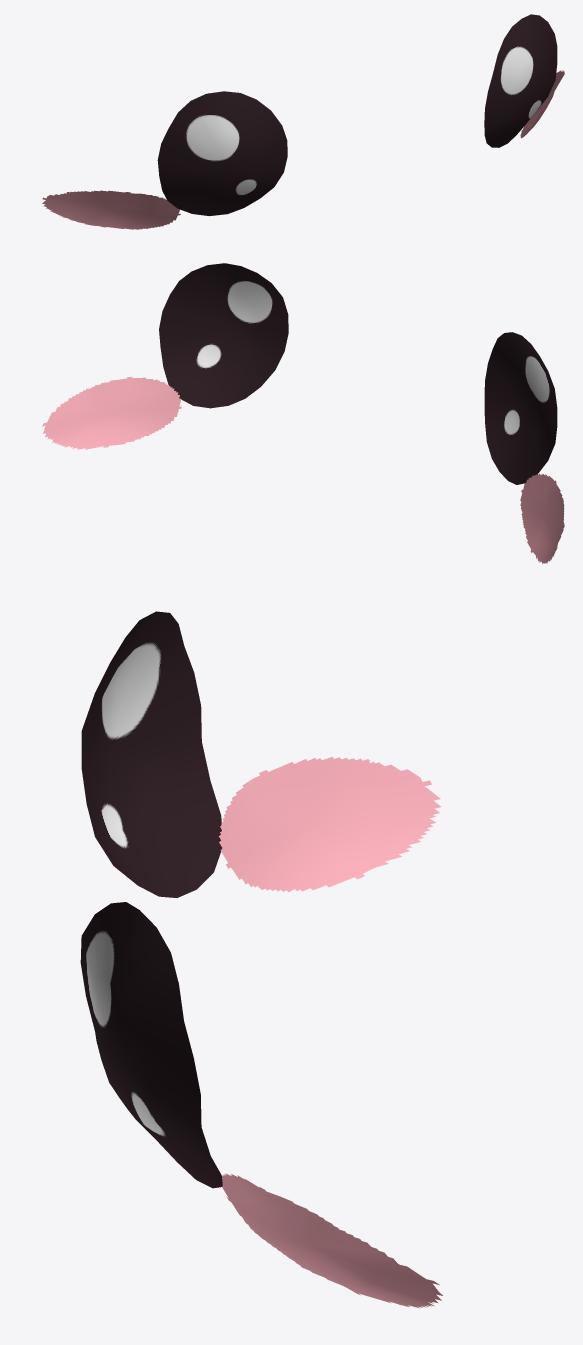
File: bunny-eye-conform.fbx
3 renders of one model, top to bottom at view 1: azimuth 30°, elevation 25°; view 2: azimuth 150°, elevation 25°; view 3: azimuth 270°, elevation 25°, orthographic. The views are drawn at different scales.
Parts seen in each view (by area): view 1: Bunny__EyeL, Bunny__EyeR, Bunny__BlushL, Bunny__BlushR; view 2: Bunny__EyeR, Bunny__EyeL, Bunny__BlushR, Bunny__BlushL; view 3: Bunny__EyeL, Bunny__BlushL, Bunny__EyeR, Bunny__BlushR.
Boxes of the visible parts, bbox=[...] form: Bunny__EyeL: bbox=[157, 91, 287, 216]; Bunny__EyeR: bbox=[484, 14, 557, 147]; Bunny__BlushL: bbox=[42, 190, 180, 229]; Bunny__BlushR: bbox=[520, 70, 564, 138]; Bunny__EyeR: bbox=[159, 263, 288, 408]; Bunny__EyeL: bbox=[484, 332, 557, 484]; Bunny__BlushR: bbox=[42, 376, 181, 449]; Bunny__BlushL: bbox=[520, 473, 564, 563]; Bunny__EyeL: bbox=[81, 611, 222, 897]; Bunny__BlushL: bbox=[219, 757, 441, 892]; Bunny__EyeR: bbox=[80, 902, 222, 1188]; Bunny__BlushR: bbox=[222, 1173, 442, 1308].
Size of the model in its own units: 84.86 by 25.38 by 28.68.
